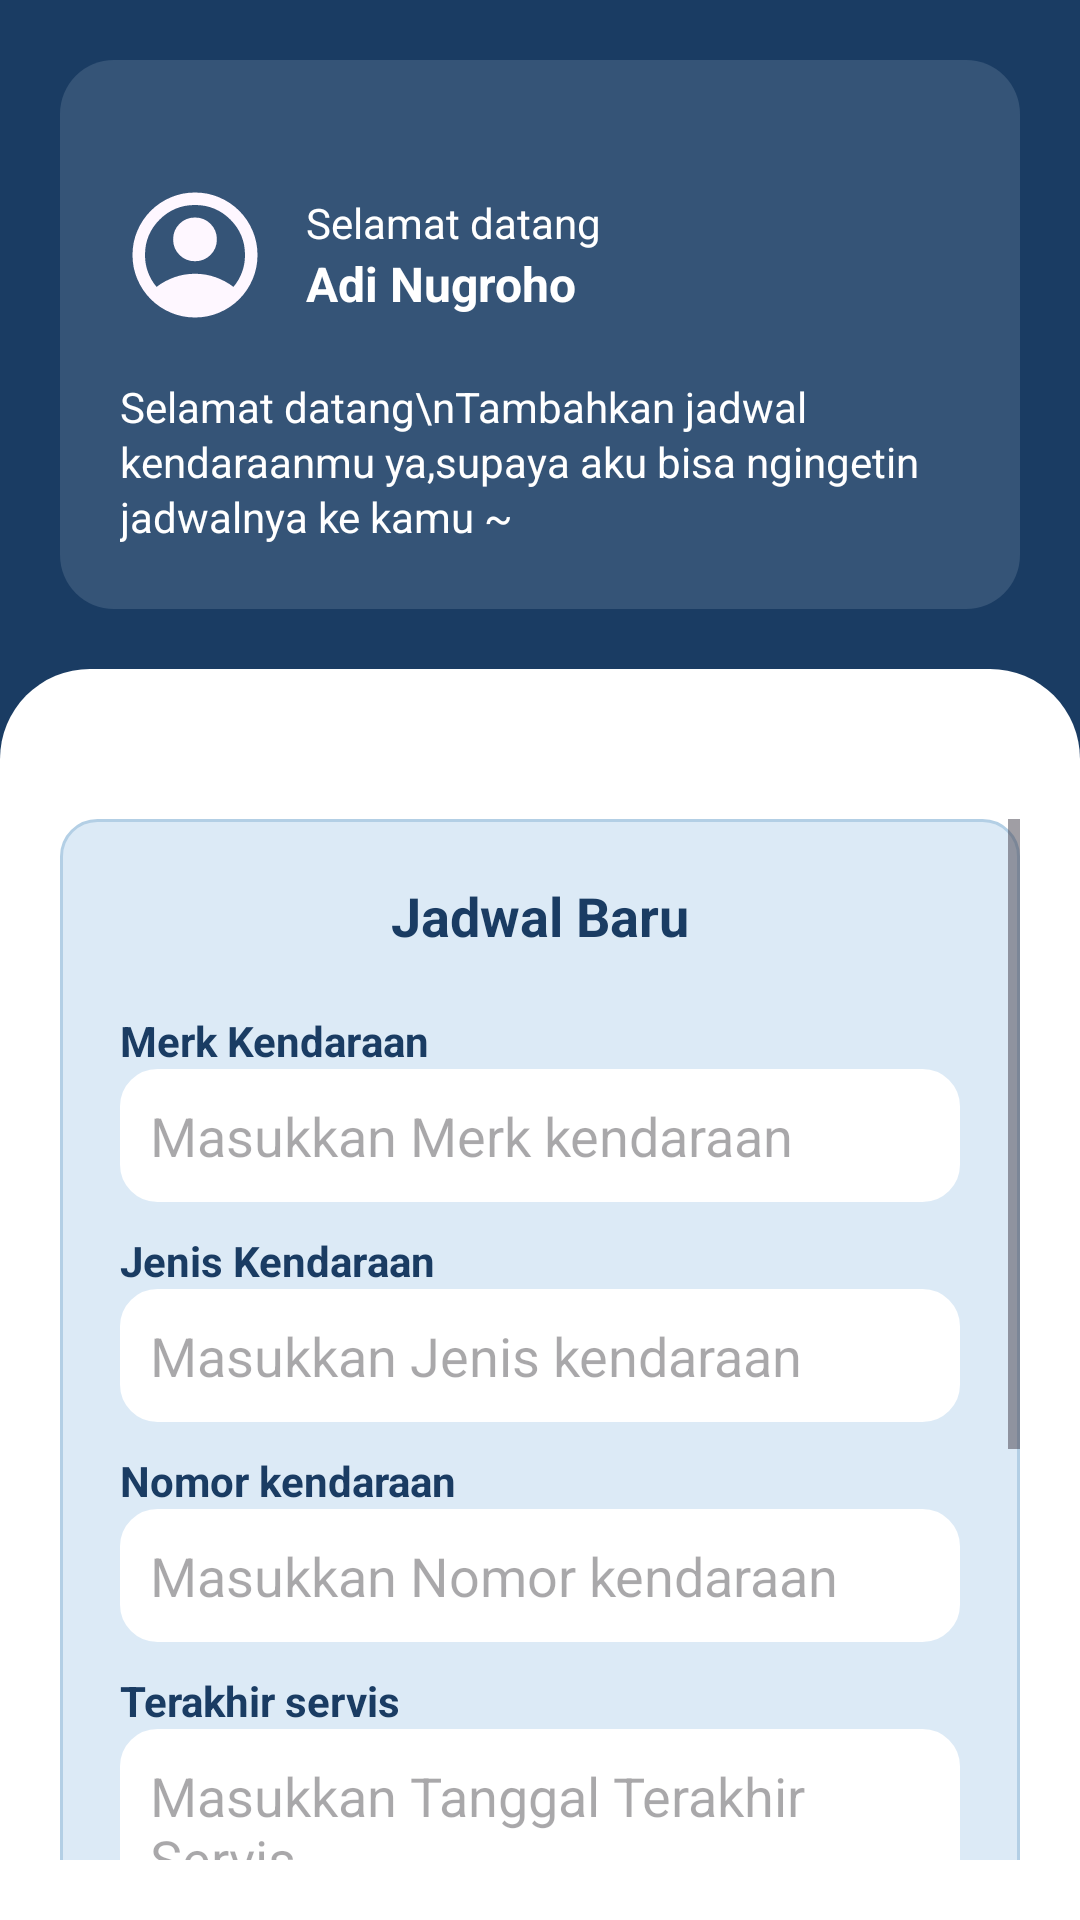

Icon bounding boxes for this 1080w x 1920h phone screenshot, format bbox=[x1, y1, x2, y2]:
User Profile Icon: bbox=[132, 192, 258, 318]
